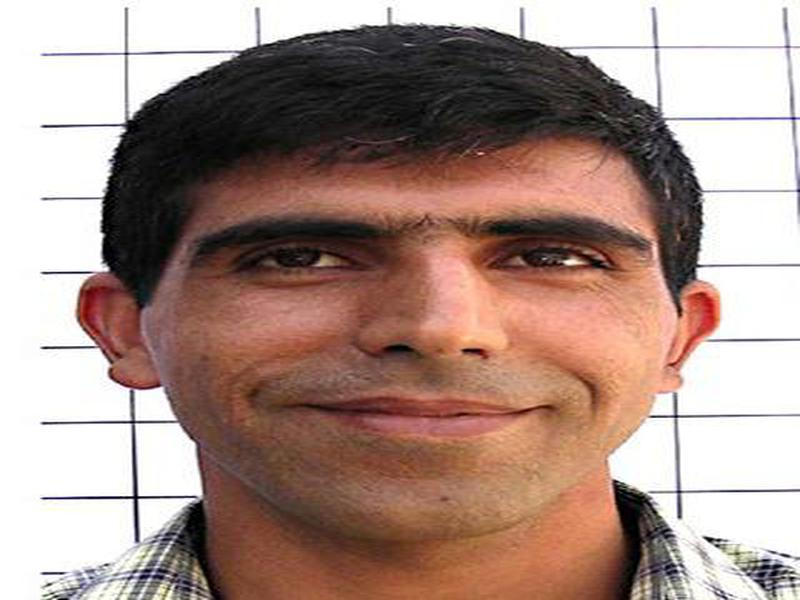without_mask: (153, 157, 666, 533)
